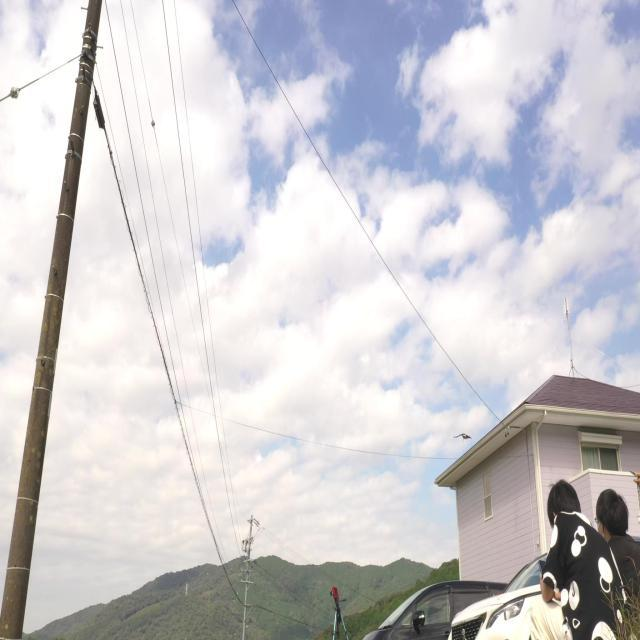Birds: (452, 424, 474, 451)
